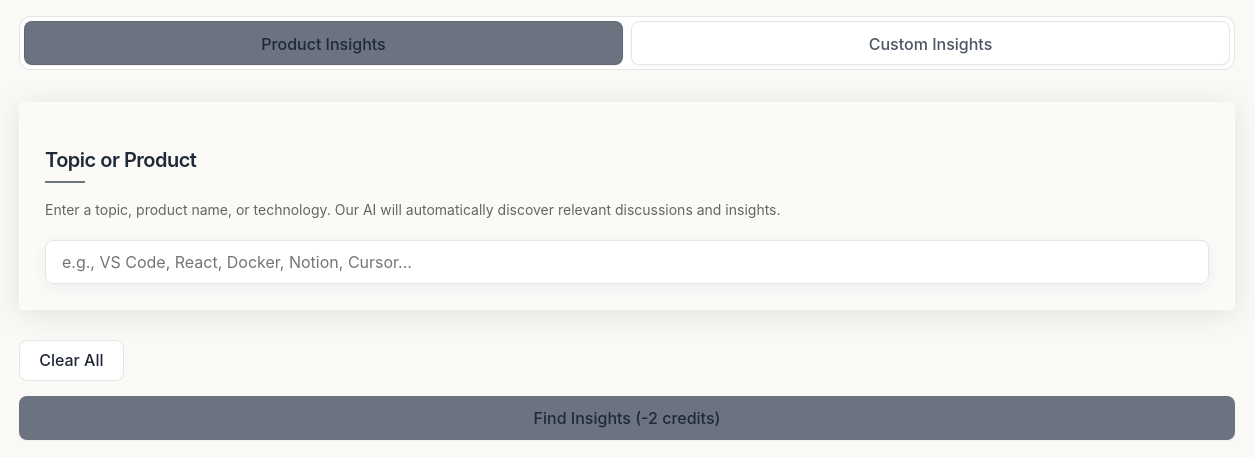
Test: ScrapePage › Form Reset › clears form when reset button is clicked
In the field with placeholder "e.g., VS Code, React, Docker, Notion, Cursor...": (627, 262) [45, 240, 1209, 284], type "Test Product"
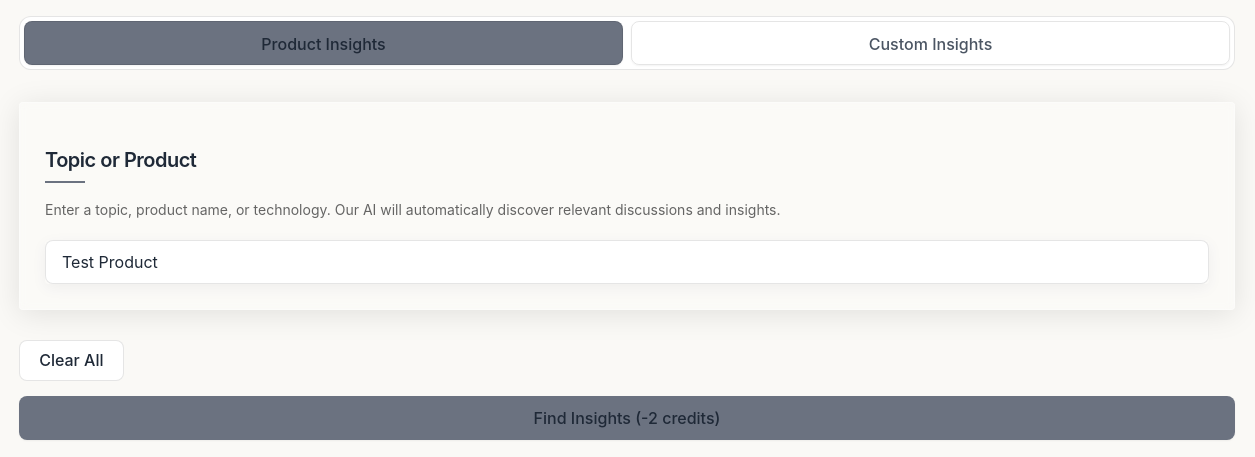
Click the button "Clear All": (71, 360) [19, 340, 124, 381]
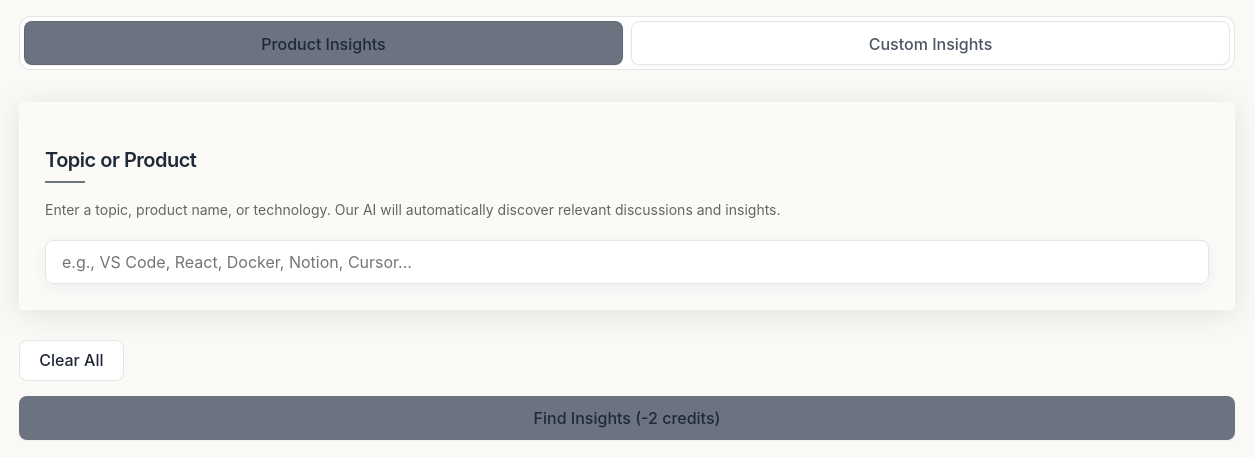
Check: the field with placeholder "e.g., VS Code, React, Docker, Notion, Cursor..." is empty, box [45, 240, 1209, 284]
